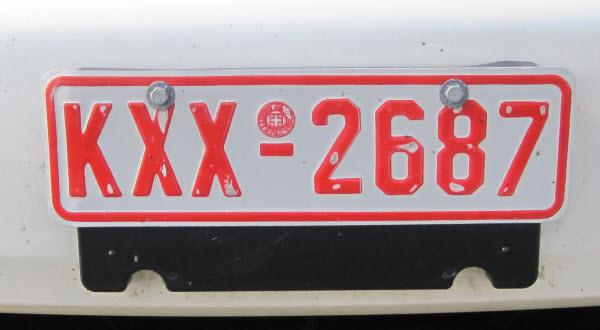license_plate: (45, 74, 572, 221)
